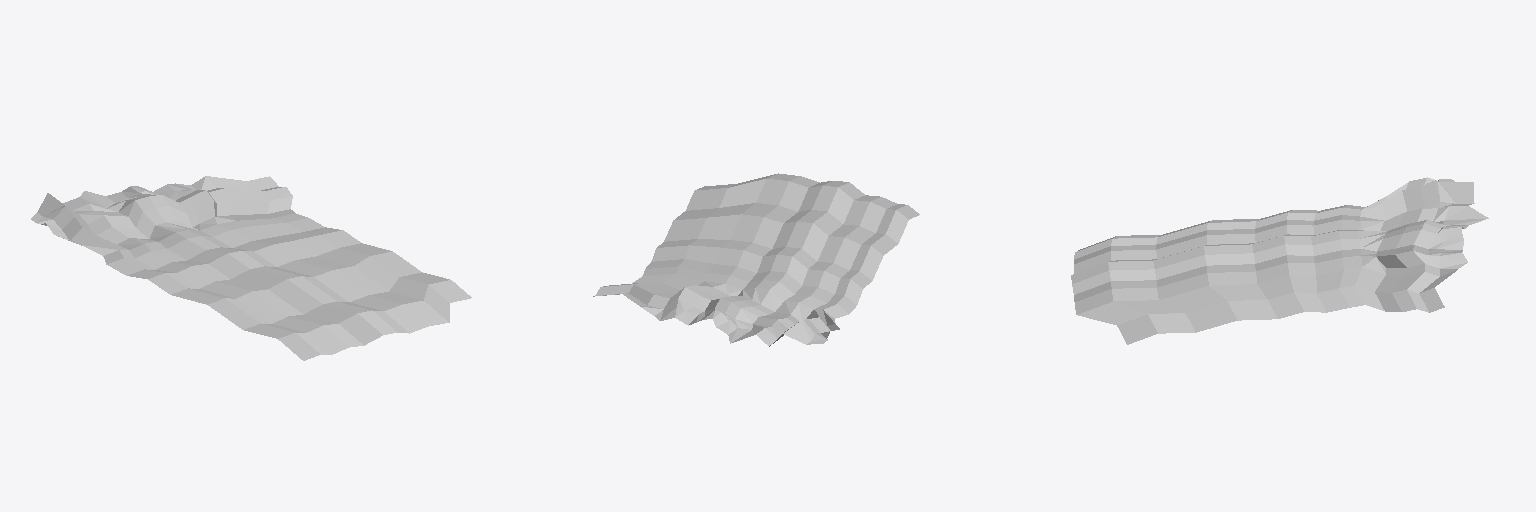
File: grass.obj
The picture shows the model from 3 angles: view 1: azimuth 30°, elevation 25°; view 2: azimuth 150°, elevation 25°; view 3: azimuth 270°, elevation 25°; orthographic projection.
Visible parts, largest first — view 1: Plane; view 2: Plane; view 3: Plane.
Boxes of the visible parts, x1=… form: Plane: x1=31, y1=176, x2=471, y2=360; Plane: x1=593, y1=173, x2=919, y2=346; Plane: x1=1071, y1=177, x2=1488, y2=344.
Bounding box in the file's own units: 34.27 × 4.81 × 44.25.